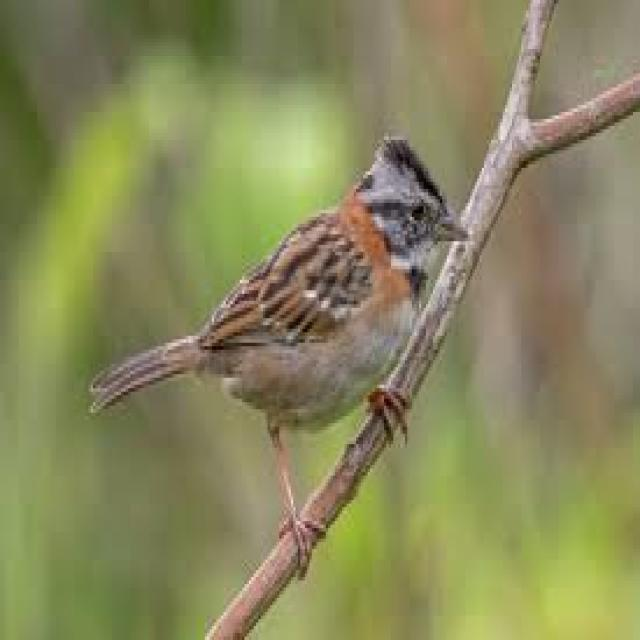Sparrow: (107, 125, 465, 539)
